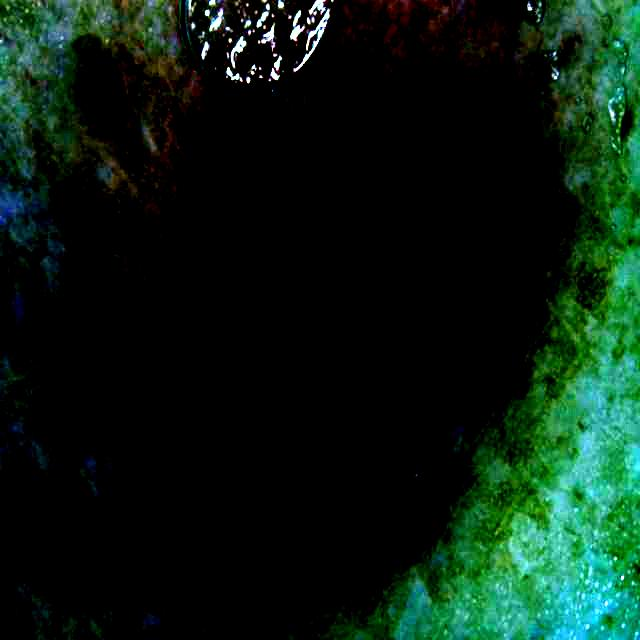DF: (176, 85, 548, 557)
